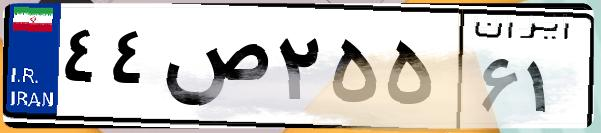1: (525, 38, 570, 115)
2: (270, 28, 330, 110)
4: (57, 26, 110, 100), (110, 28, 158, 98)
5: (385, 28, 445, 110), (330, 28, 385, 110)
6: (475, 38, 525, 113)
ص: (158, 20, 270, 120)
